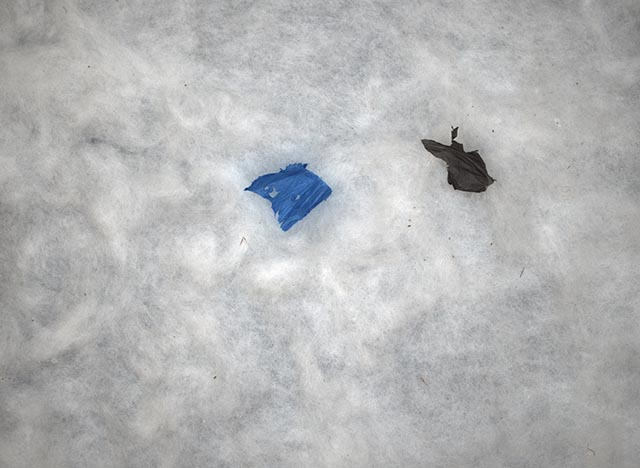plastic film: (243, 161, 333, 232), (421, 124, 496, 194)
